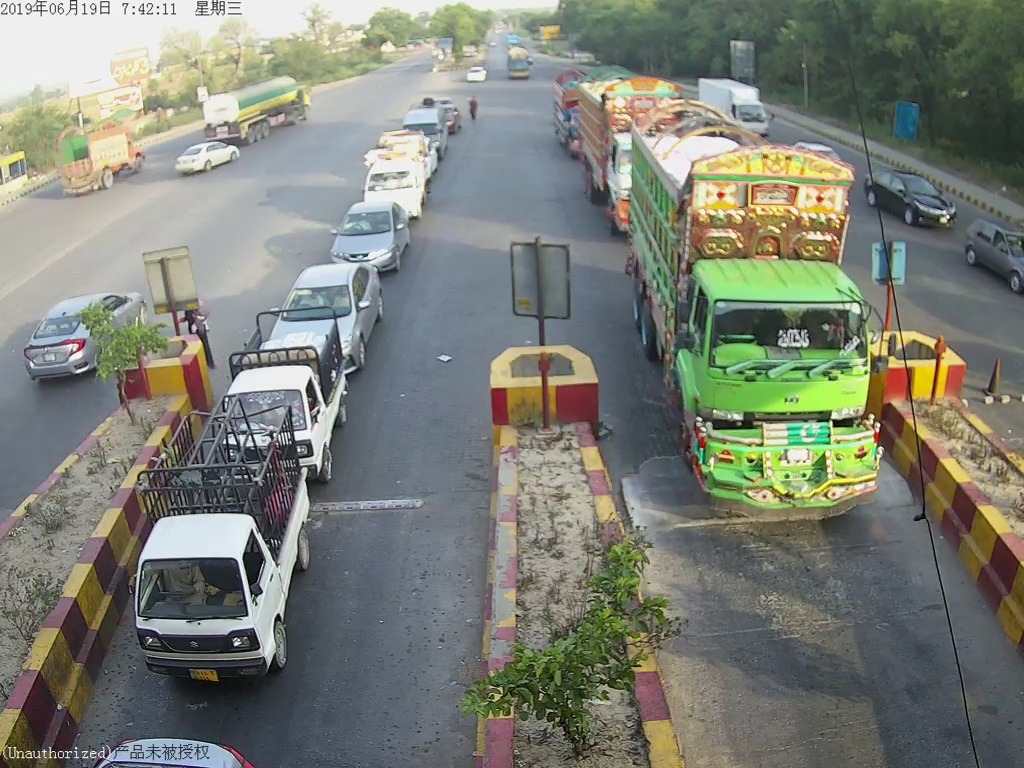Cat-1: (134, 408, 324, 695)
Cat-4: (634, 124, 875, 517)
